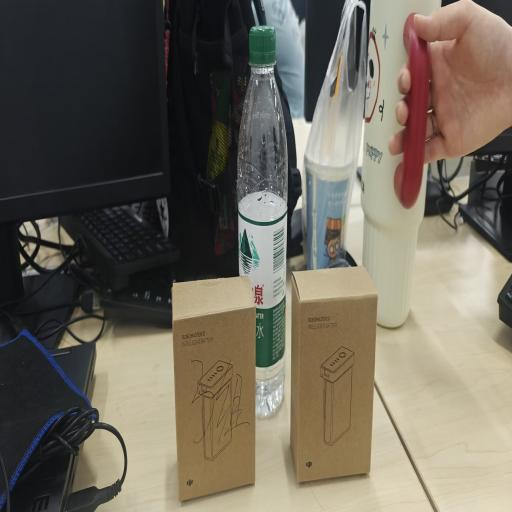bottle: (237, 26, 288, 417), (172, 276, 256, 501)
box: (172, 276, 256, 501), (290, 266, 377, 482)
